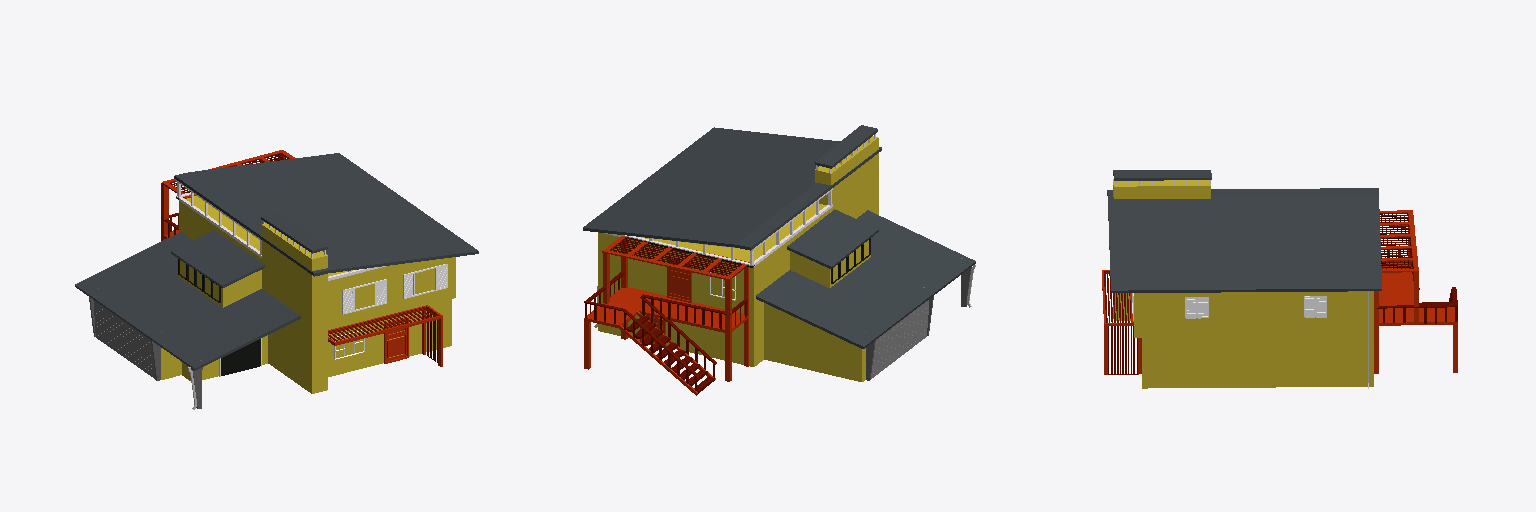
The model's file is CasaAmarilla.obj.
3 views of the same model, side by side, from view 1: azimuth 30°, elevation 25°; view 2: azimuth 150°, elevation 25°; view 3: azimuth 270°, elevation 25° (orthographic).
Parts seen in each view (by area): view 1: Plane, Plane.001, Cube.002, Cube, Plane.003, Cube.003, Cube.035, Plane.112, Plane.004, Plane.106, Plane.049, Plane.053 (+1 smaller); view 2: Plane, Plane.001, Cube.002, Cube.003, Plane.003, Cube, Plane.112, Plane.009, Plane.014, Plane.013, Plane.004, Plane.051 (+1 smaller); view 3: Plane, Cube, Cube.002, Cube.035, Plane.009, Plane.004, Plane.014.
Part boxes in pixels (x1,y1,x2,y2): Plane: (174, 153, 478, 276); Plane.001: (75, 232, 300, 370); Cube.002: (179, 196, 455, 342); Cube: (268, 299, 451, 393); Plane.003: (171, 230, 264, 287); Cube.003: (161, 260, 267, 380); Cube.035: (328, 305, 442, 366); Plane.112: (94, 301, 155, 379); Plane.004: (261, 212, 327, 253); Plane.106: (221, 339, 260, 375); Plane.049: (384, 318, 408, 363); Plane.053: (342, 279, 386, 314); Plane: (583, 127, 881, 250); Plane.001: (756, 210, 975, 348); Cube.002: (598, 136, 878, 315); Cube.003: (764, 240, 870, 381); Plane.003: (787, 209, 878, 268); Cube: (598, 280, 763, 366); Plane.112: (871, 300, 928, 378); Plane.009: (608, 287, 748, 332); Plane.014: (610, 237, 746, 277); Plane.013: (626, 316, 714, 392); Plane.004: (815, 125, 877, 168); Plane.051: (667, 258, 691, 302); Plane: (1107, 188, 1381, 292); Cube: (1113, 293, 1373, 388); Cube.002: (1113, 179, 1373, 337); Cube.035: (1102, 270, 1141, 374); Plane.009: (1379, 263, 1418, 325); Plane.004: (1113, 170, 1211, 180); Plane.014: (1380, 213, 1413, 268).
Size of the model in its own units: 15.97 by 8.04 by 17.8.